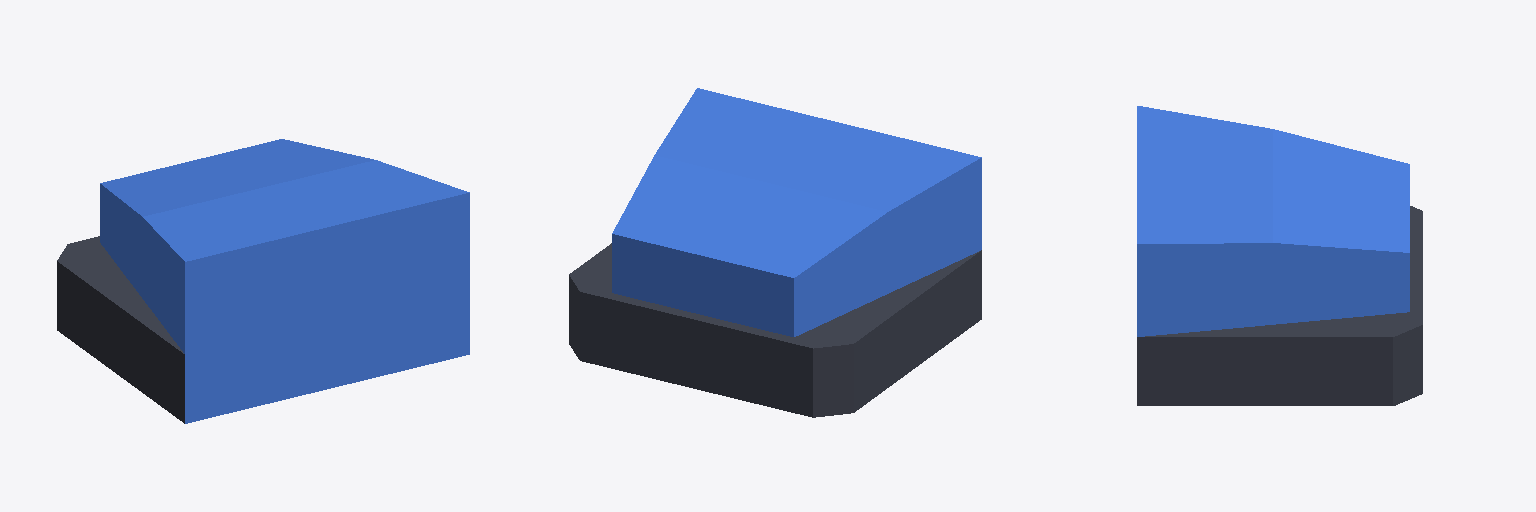
File: TurretTop.obj
The picture shows the model from 3 angles: view 1: azimuth 30°, elevation 25°; view 2: azimuth 150°, elevation 25°; view 3: azimuth 270°, elevation 25°; orthographic projection.
Size of the model in its own units: 1 by 0.5438 by 0.87.